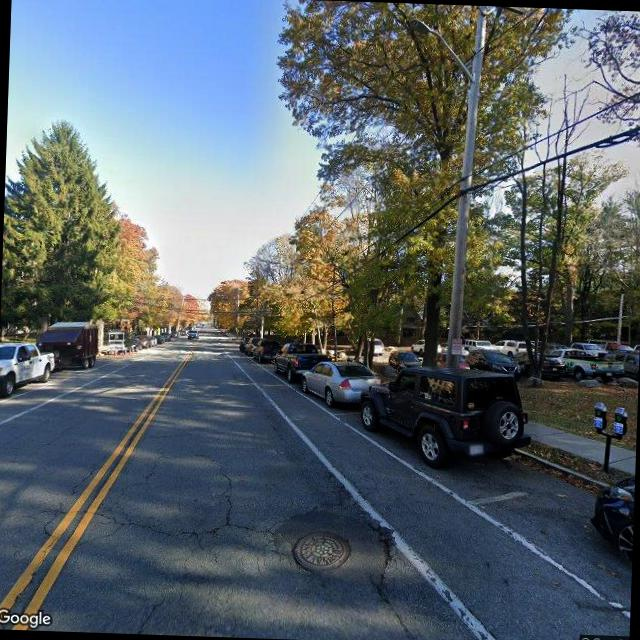crack: (22, 435, 300, 627)
